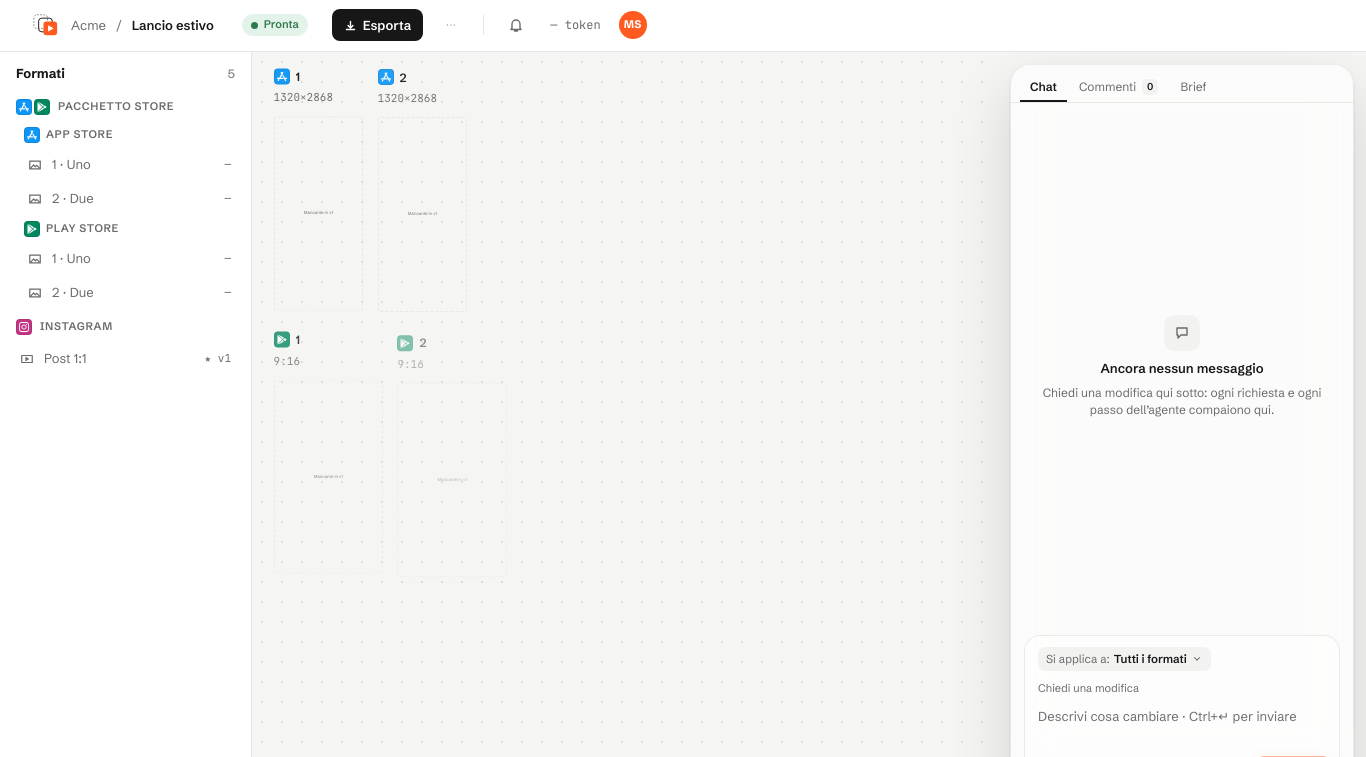
Test case: CreativeCanvas · the store pack is one group › report 46: a creative made only of its pack opens the pack export at once
This screenshot has width=1366, height=757.
expect the element "Pacchetto store" is shown: met, box x1=10 y1=93 x2=241 y2=309
Click the button "Esporta" at (378, 25), box x1=332 y1=9 x2=423 y2=41
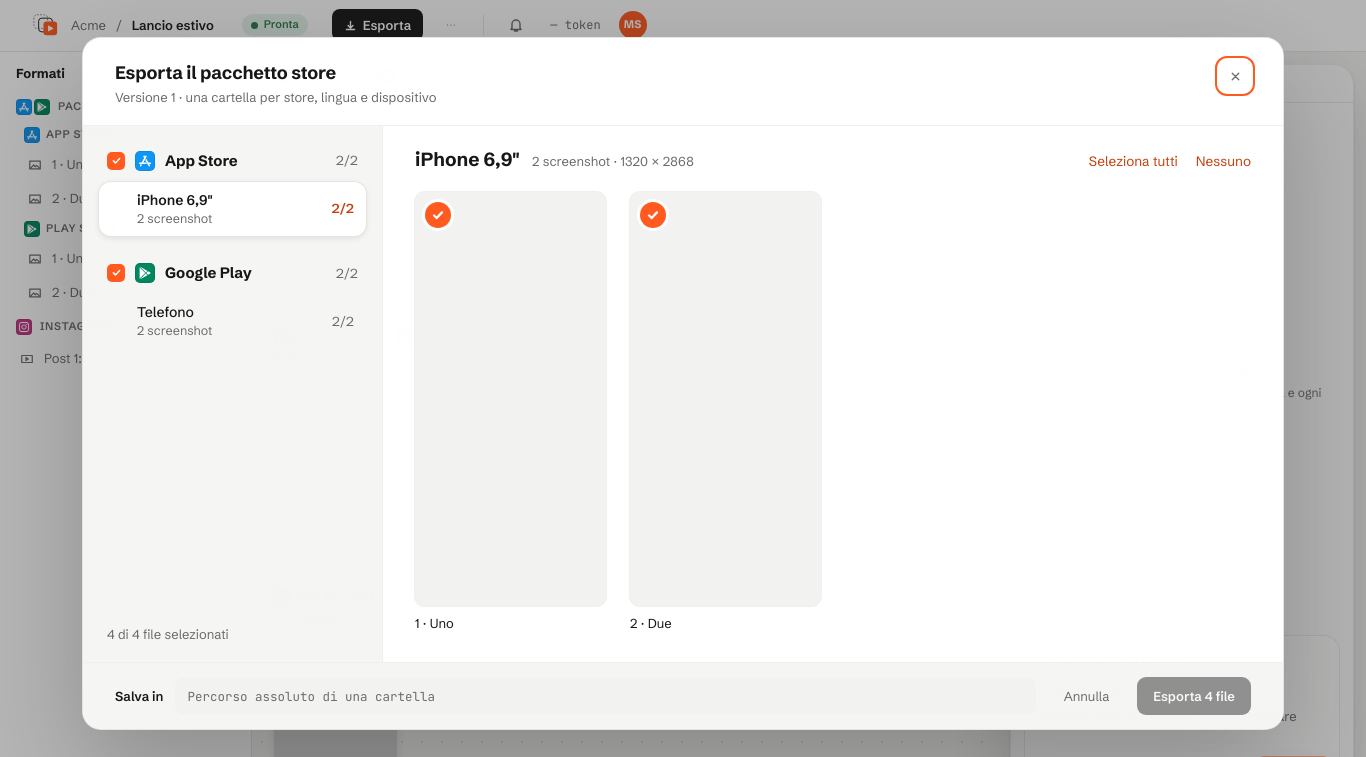
expect the dialog "pacchetto store" is shown: met
